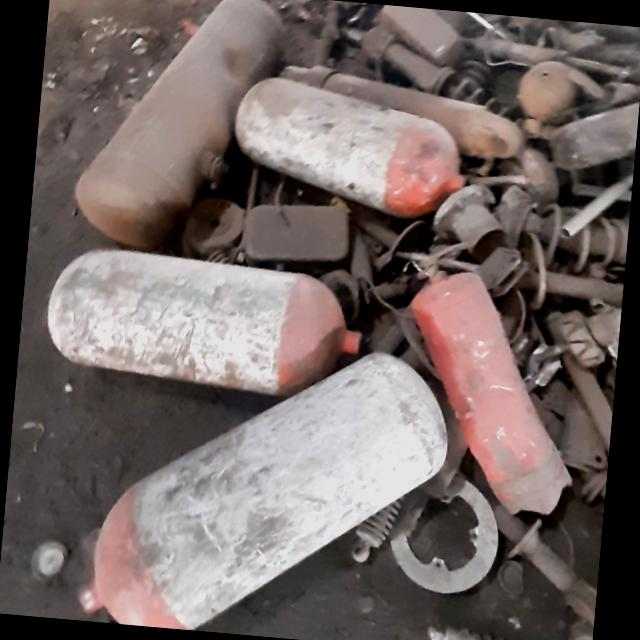Cylinders: (77, 356, 447, 630), (44, 248, 361, 395), (235, 79, 464, 213)
Shock Absorber: (419, 625, 500, 640)
